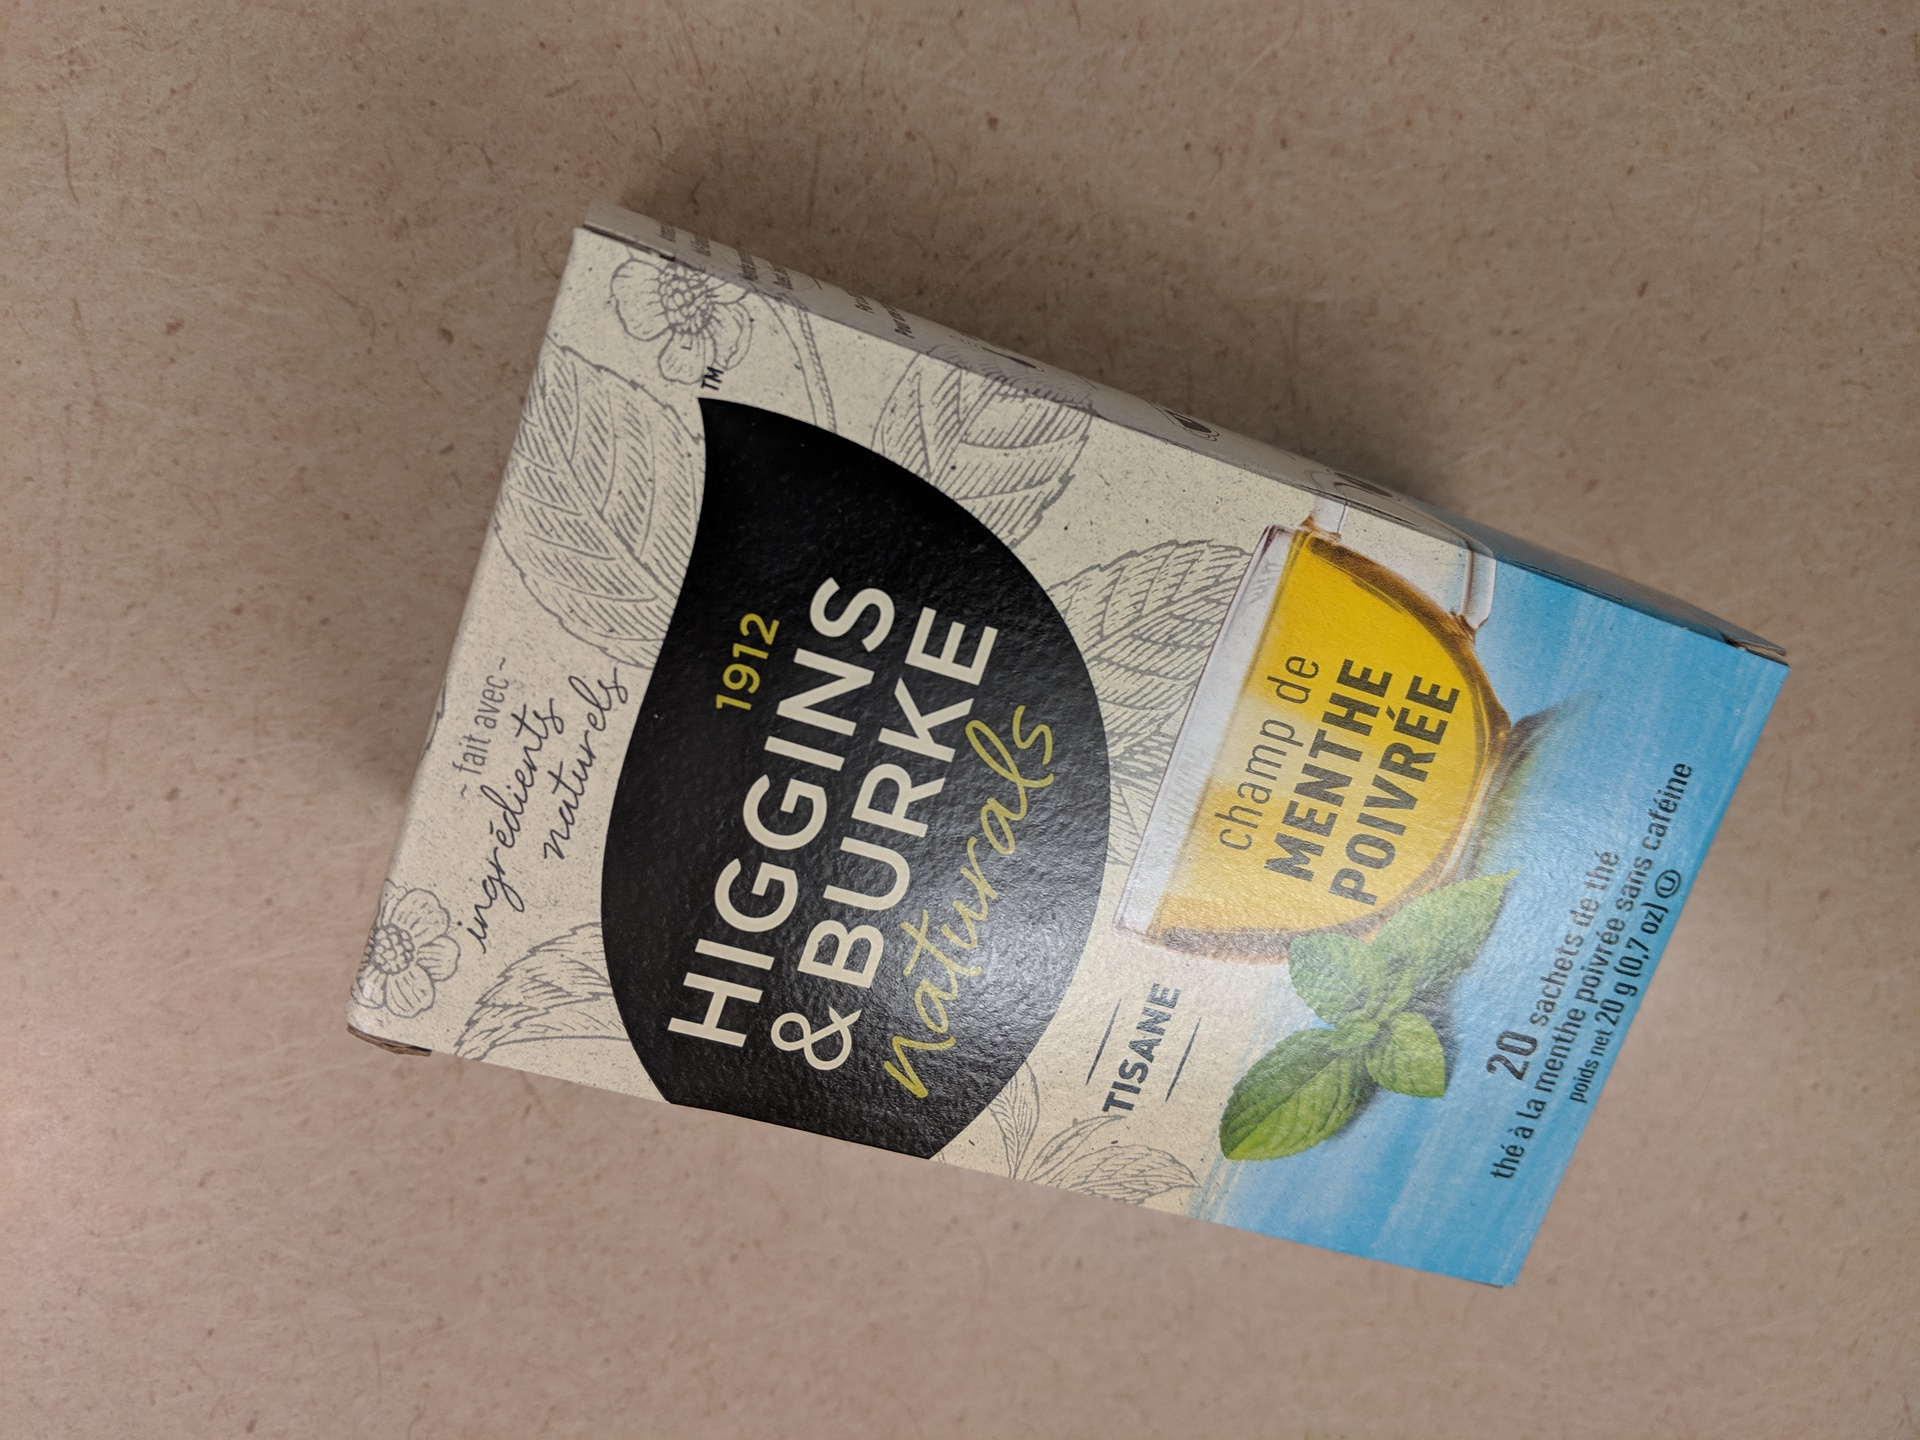higgins_and_burke_naturals_peppermint: (340, 201, 1790, 1305)
